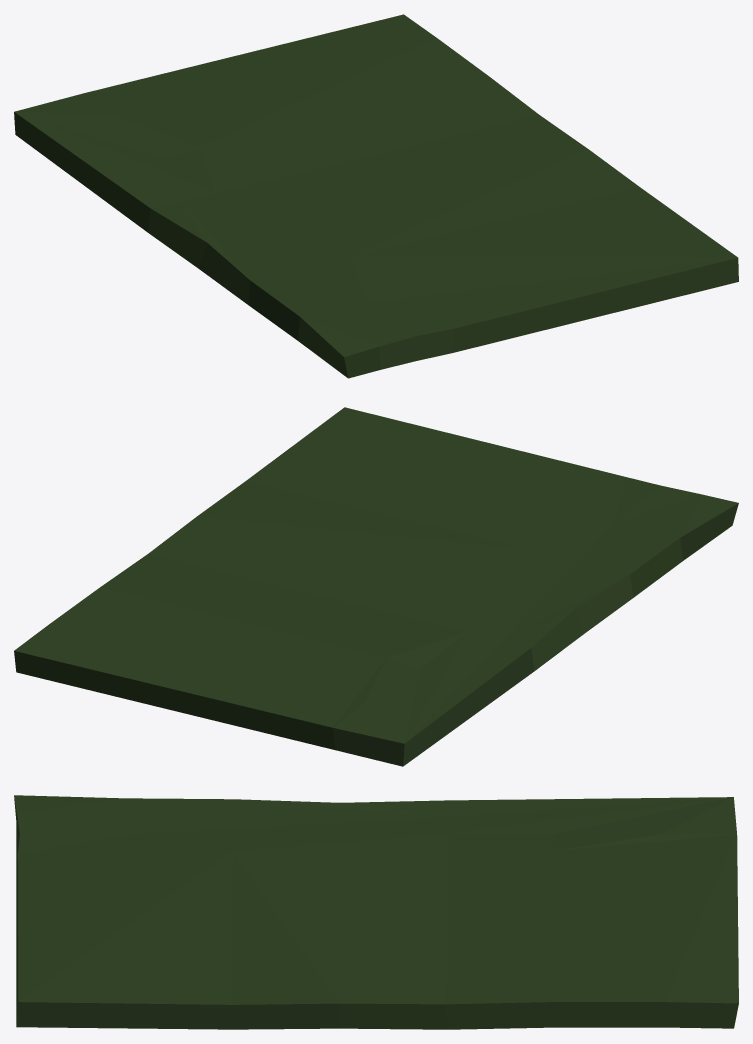
File: grass_terrain_2.FBX
3 views of the same model, one above another, from view 1: azimuth 30°, elevation 25°; view 2: azimuth 150°, elevation 25°; view 3: azimuth 270°, elevation 25° (orthographic). The views are drawn at different scales.
Parts seen in each view (by area): view 1: grass_terrain_2; view 2: grass_terrain_2; view 3: grass_terrain_2.
Part boxes in pixels (left/top/right/bottom): grass_terrain_2: left=14, top=14, right=738, bottom=378; grass_terrain_2: left=14, top=407, right=738, bottom=766; grass_terrain_2: left=14, top=795, right=738, bottom=1029.
Size of the model in its own units: 386 by 24.32 by 567.
